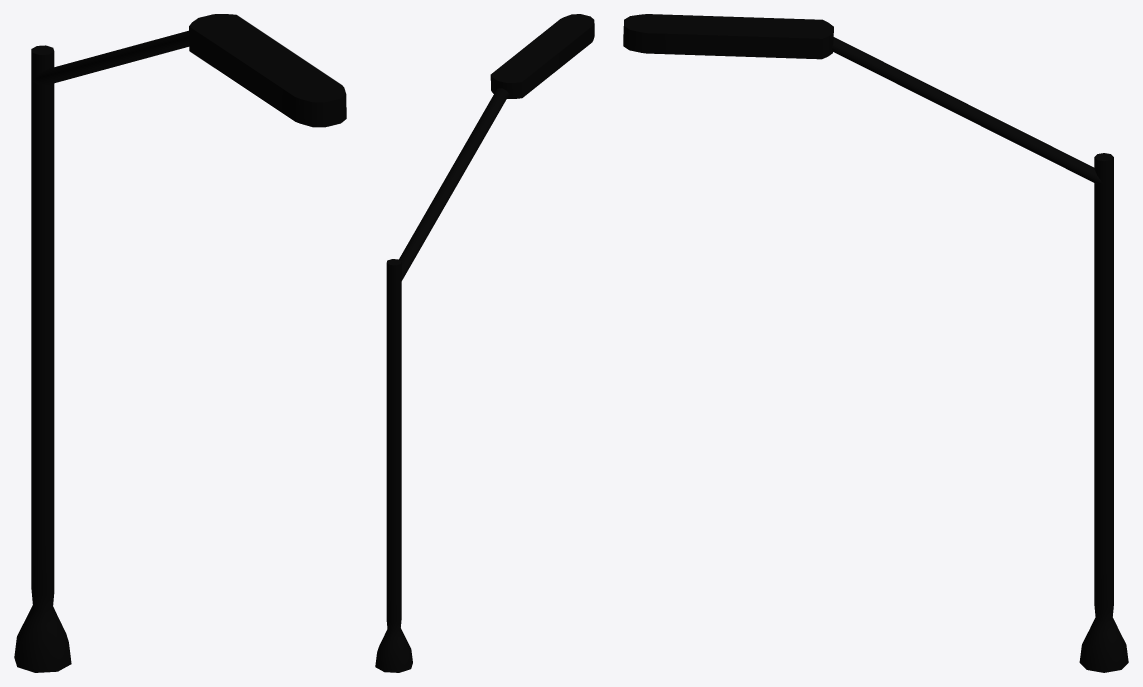
Rendered from road light.FBX.
3 views of the same model, side by side, from view 1: azimuth 30°, elevation 25°; view 2: azimuth 150°, elevation 25°; view 3: azimuth 270°, elevation 25° (orthographic). The views are drawn at different scales.
Visible parts, largest first — view 1: Cylinder001; view 2: Cylinder001; view 3: Cylinder001.
Boxes of the visible parts, bbox=[...] form: Cylinder001: bbox=[14, 14, 346, 672]; Cylinder001: bbox=[375, 14, 594, 672]; Cylinder001: bbox=[623, 14, 1128, 672].
Size of the model in its own units: 4.98 by 71.6 by 51.27.
